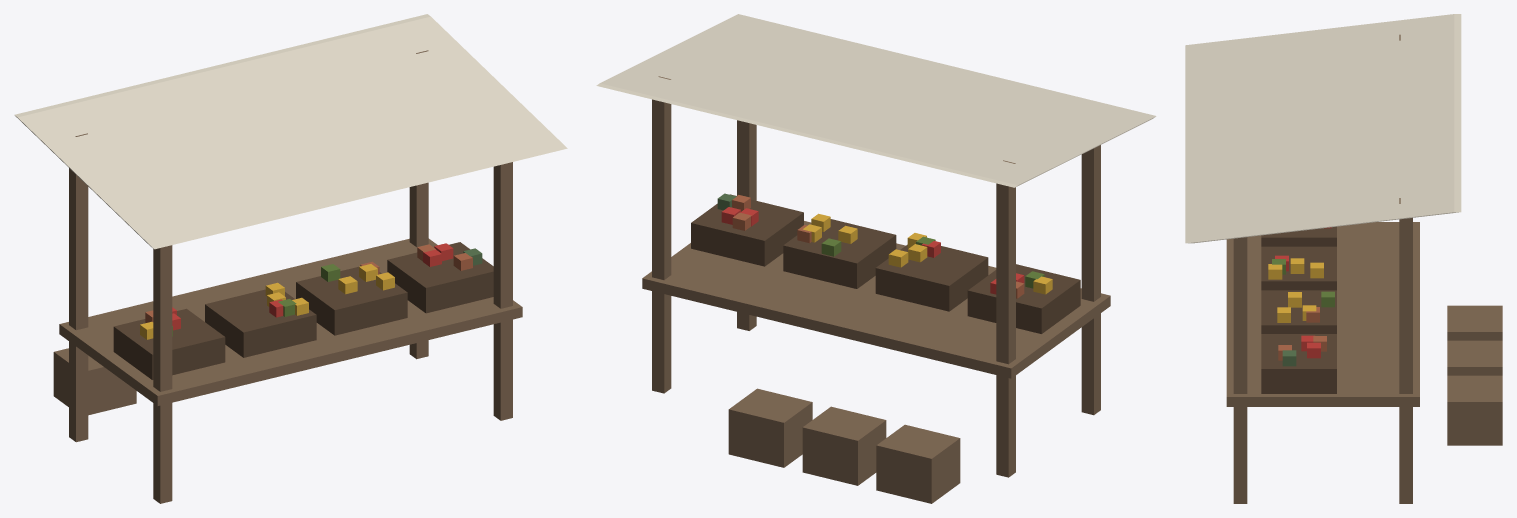
The model's file is pazar-tezgahi.glb.
3 views of the same model, side by side, from view 1: azimuth 30°, elevation 25°; view 2: azimuth 150°, elevation 25°; view 3: azimuth 270°, elevation 25° (orthographic). The views are drawn at different scales.
Visible parts, largest first — view 1: bez, ahsap, ahsap_koyu, cicek2, cicek, saksi; view 2: ahsap, bez, ahsap_koyu, cicek2, saksi, cicek, asma; view 3: bez, ahsap, ahsap_koyu, cicek2, cicek, saksi, asma.
Boxes of the visible parts, box(x1,y1,x2,y2) form: bez: box(14, 14, 567, 249); ahsap: box(53, 50, 522, 503); ahsap_koyu: box(113, 242, 493, 379); cicek2: box(140, 264, 394, 339); cicek: box(172, 243, 453, 330); saksi: box(145, 244, 472, 322); ahsap: box(642, 76, 1110, 503); bez: box(596, 14, 1156, 187); ahsap_koyu: box(691, 194, 1080, 333); cicek2: box(803, 213, 1052, 294); saksi: box(732, 195, 1024, 298); cicek: box(721, 207, 1024, 294); asma: box(821, 236, 1044, 288); bez: box(1185, 14, 1461, 243); ahsap: box(1226, 34, 1502, 503); ahsap_koyu: box(1261, 226, 1336, 393); cicek2: box(1268, 258, 1323, 322); cicek: box(1275, 227, 1331, 358); saksi: box(1278, 307, 1326, 360); asma: box(1272, 259, 1334, 307).
Bounding box in the file's own units: 3.4 × 2.45 × 2.3.
